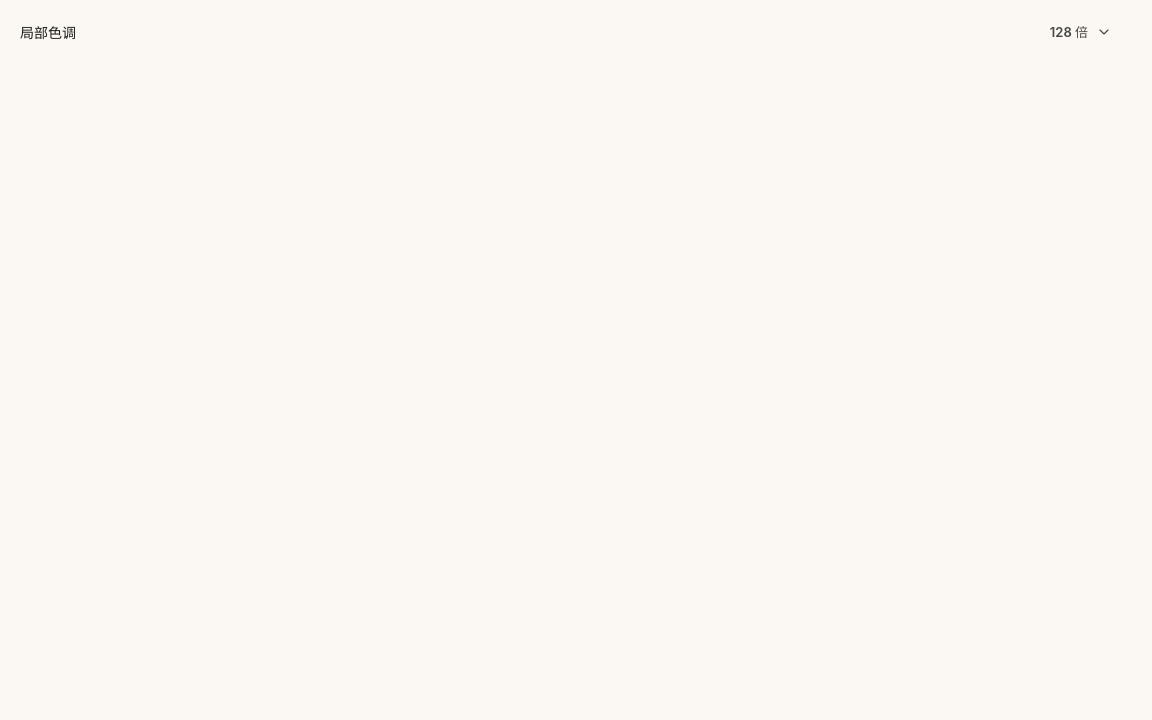
Scenario: numeric slider › retains bounds and anchors integer steps at a nonzero minimum
Click the button "局部色调 128 倍" at (48, 32), box top-left (0, 0), bottom-right (1151, 64)
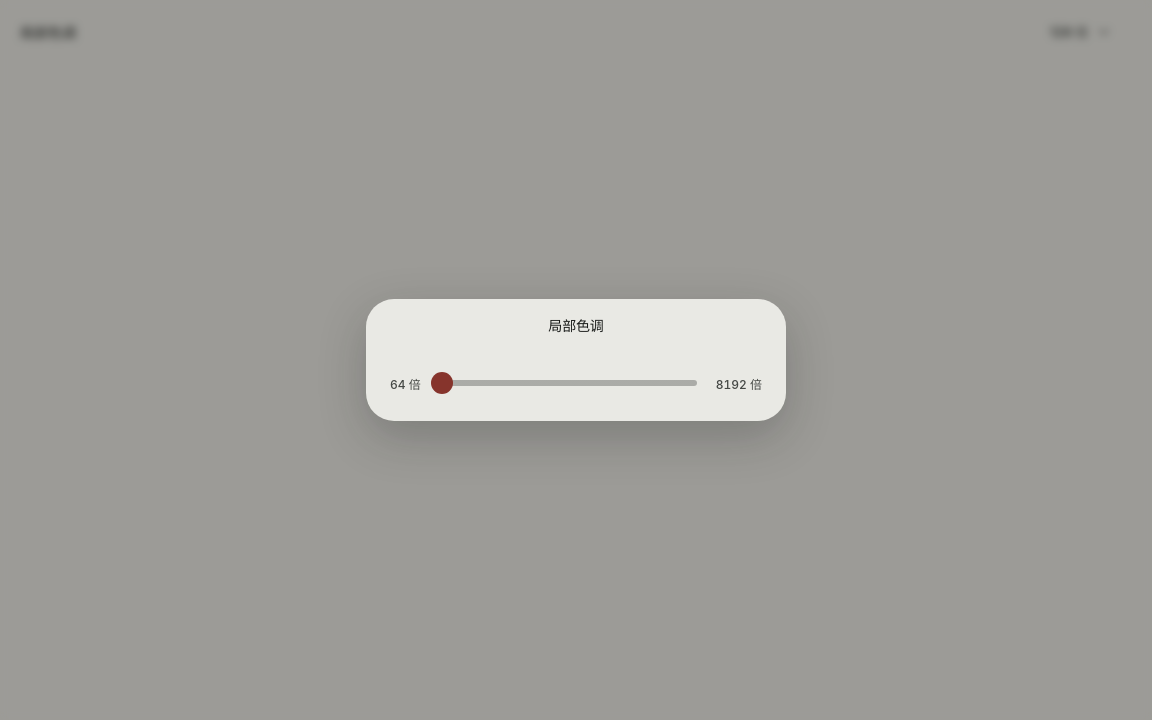
Set the slider named "局部色调" to "200" at (441, 383), box top-left (429, 361), bottom-right (708, 405)
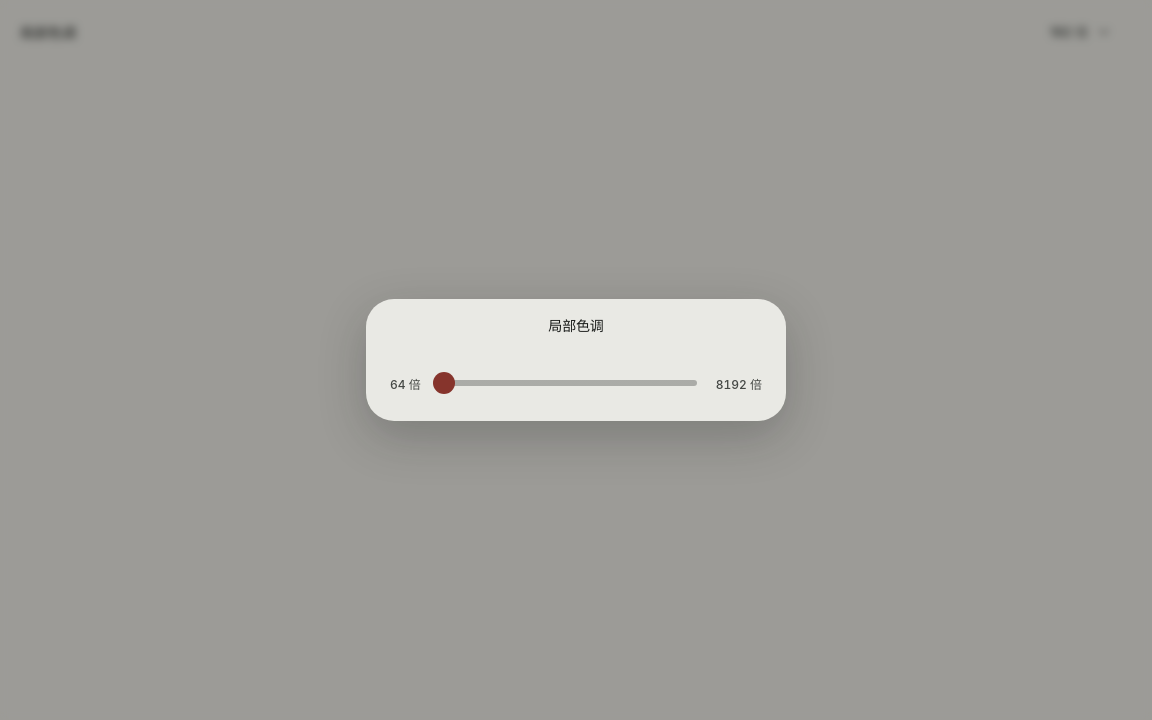
expect the slider named "局部色调" holds "192": met
Set the slider named "局部色调" to "9000" at (568, 383), box top-left (429, 361), bottom-right (708, 405)
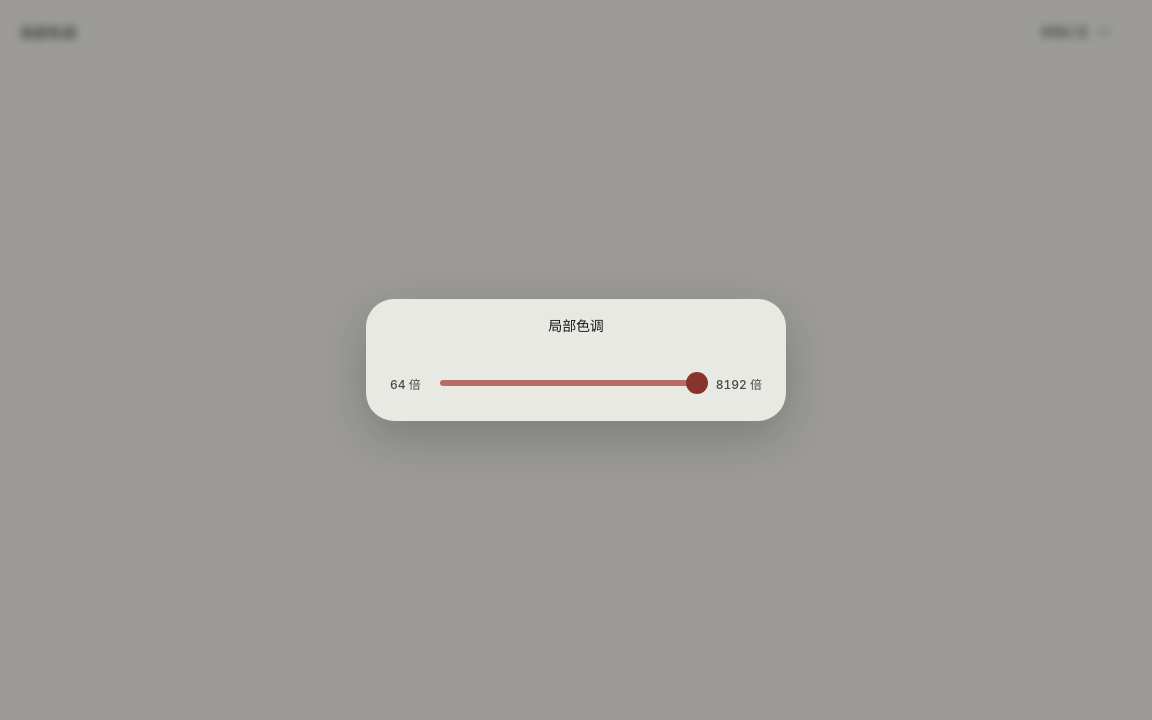
expect the slider named "局部色调" holds "8192": met
Set the slider named "局部色调" to "0" at (568, 383), box top-left (429, 361), bottom-right (708, 405)
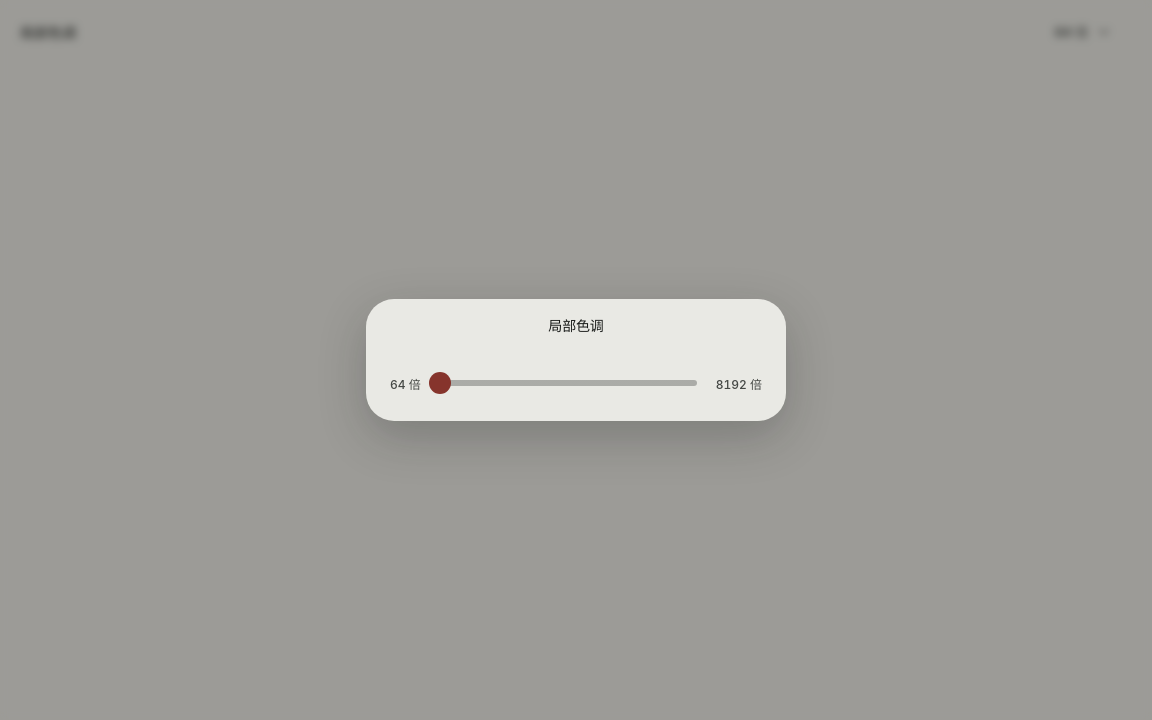
expect the slider named "局部色调" holds "64": met, box top-left (429, 361), bottom-right (708, 405)
